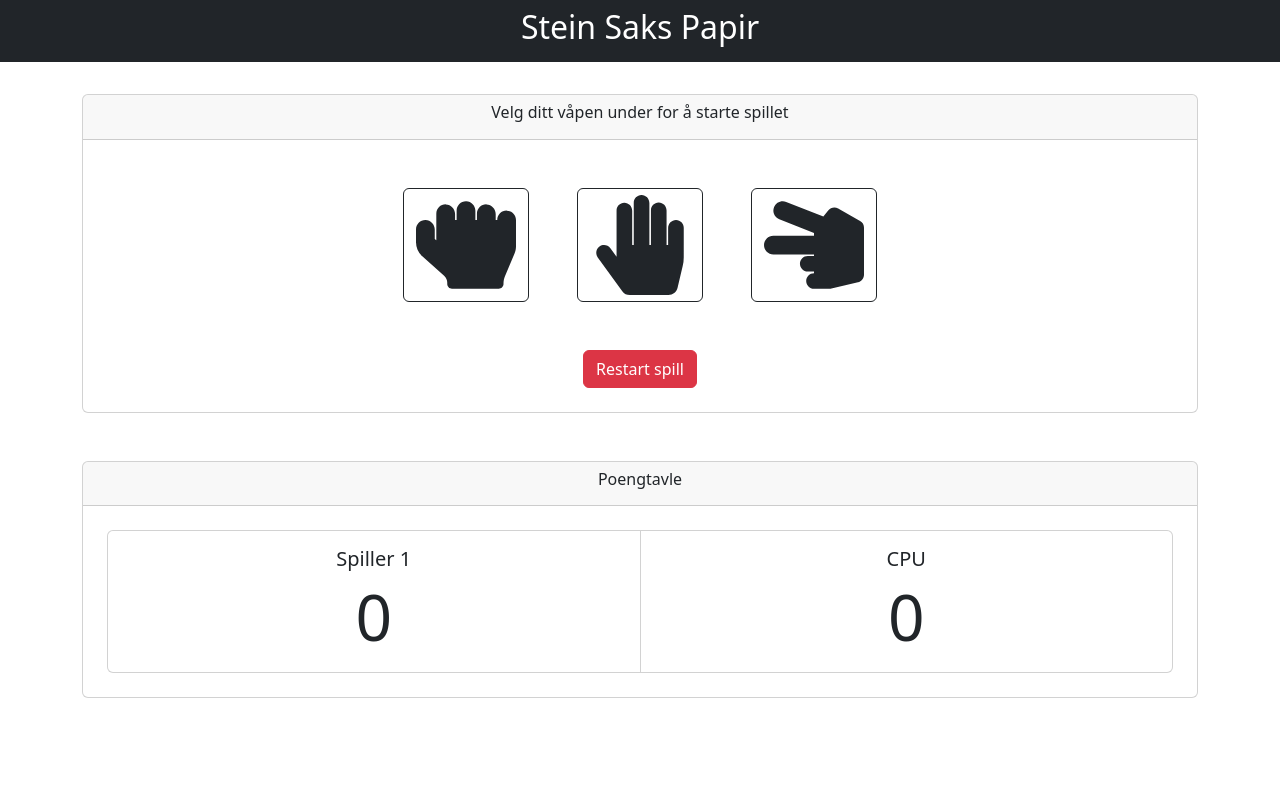
Test case: Besøk hjemmesiden, se at elementer eksisterer i DOM og at knappene fungerer › Vi klikker på alle våpnene, klikker lukk og sjekker at modal ikke er synlig lenger
Step 1. Click the button with test id "Saks" → (814, 245), box [751,188,877,302]
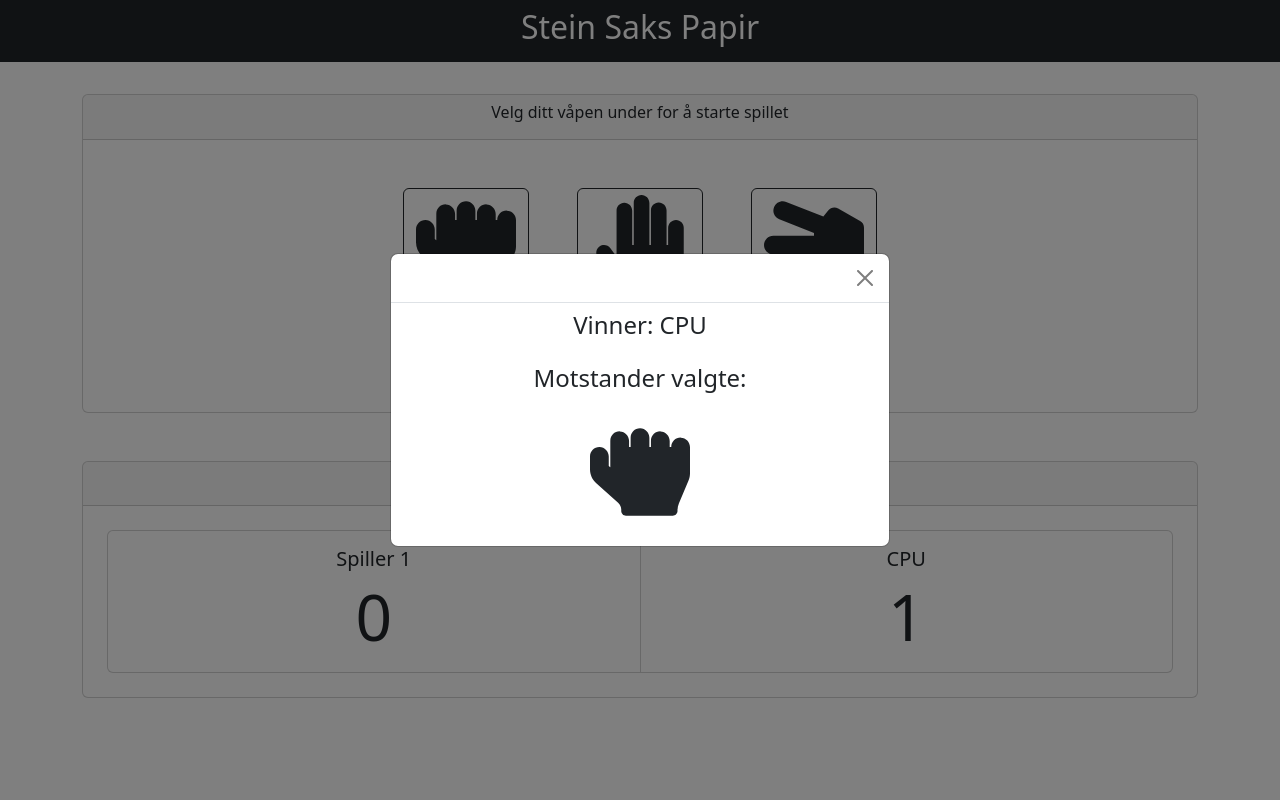
Step 2. Click the button with class "btn-close" → (865, 278), box [849,262,881,294]
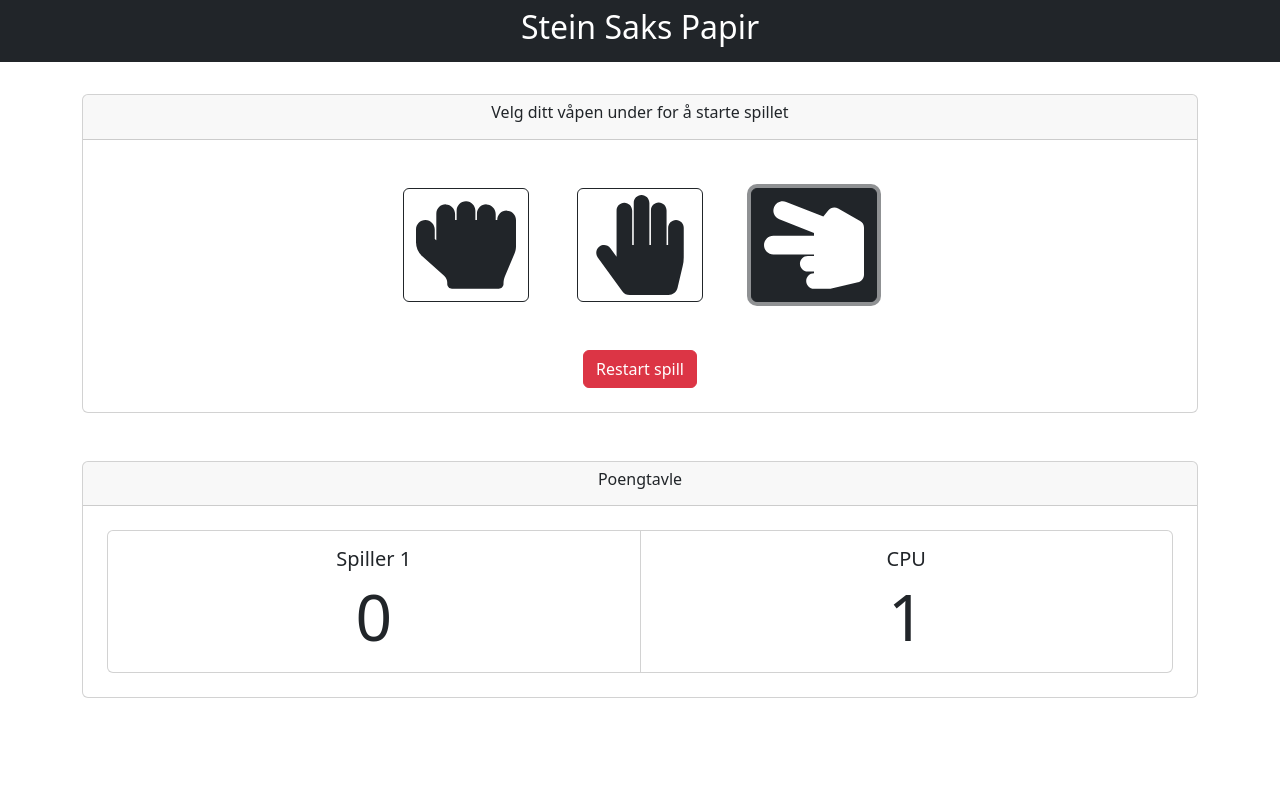
Now the heading with test id "winnermodaltext" is gone
Step 3. Click the button with test id "Stein" → (466, 245), box [403,188,529,302]
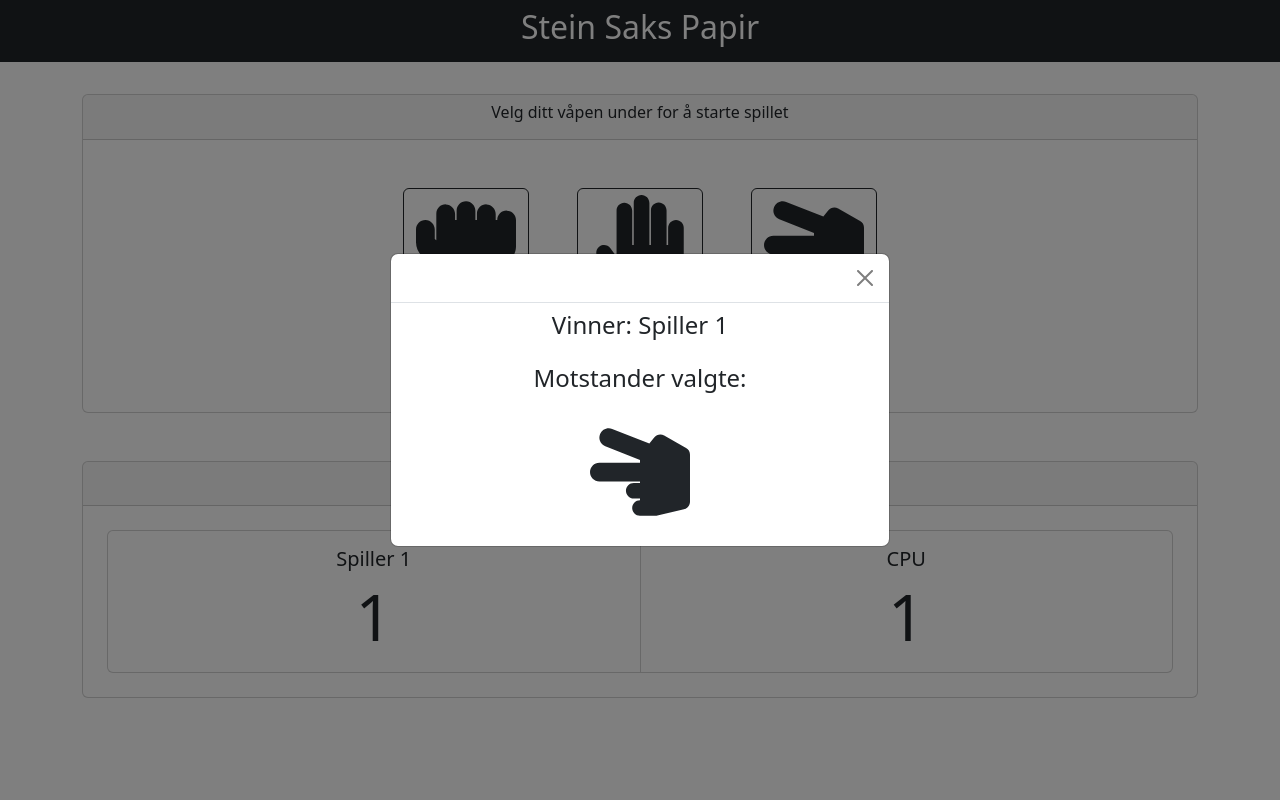
Step 4. Click the button with class "btn-close" → (865, 278), box [849,262,881,294]
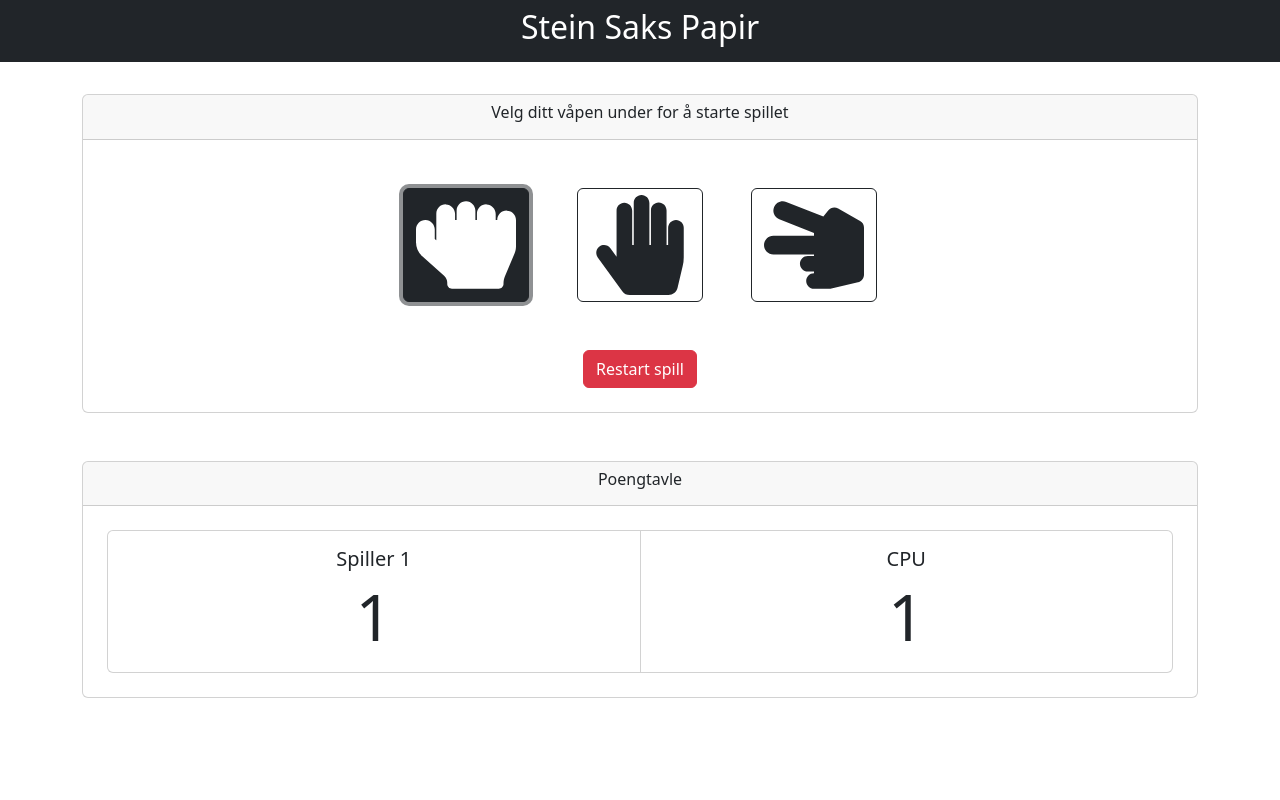
Now the heading with test id "winnermodaltext" is gone
Step 5. Click the button with test id "Papir" → (640, 245), box [577,188,703,302]
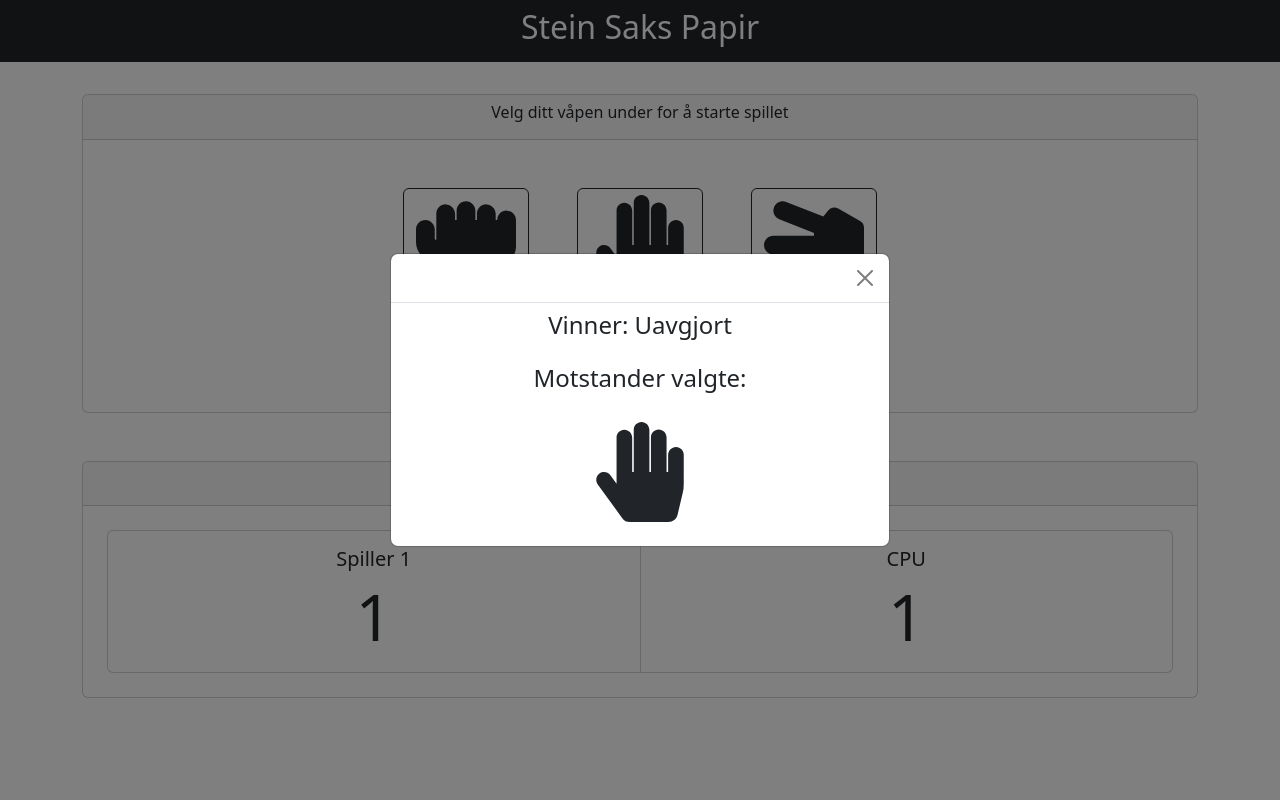
Step 6. Click the button with class "btn-close" → (865, 278), box [849,262,881,294]
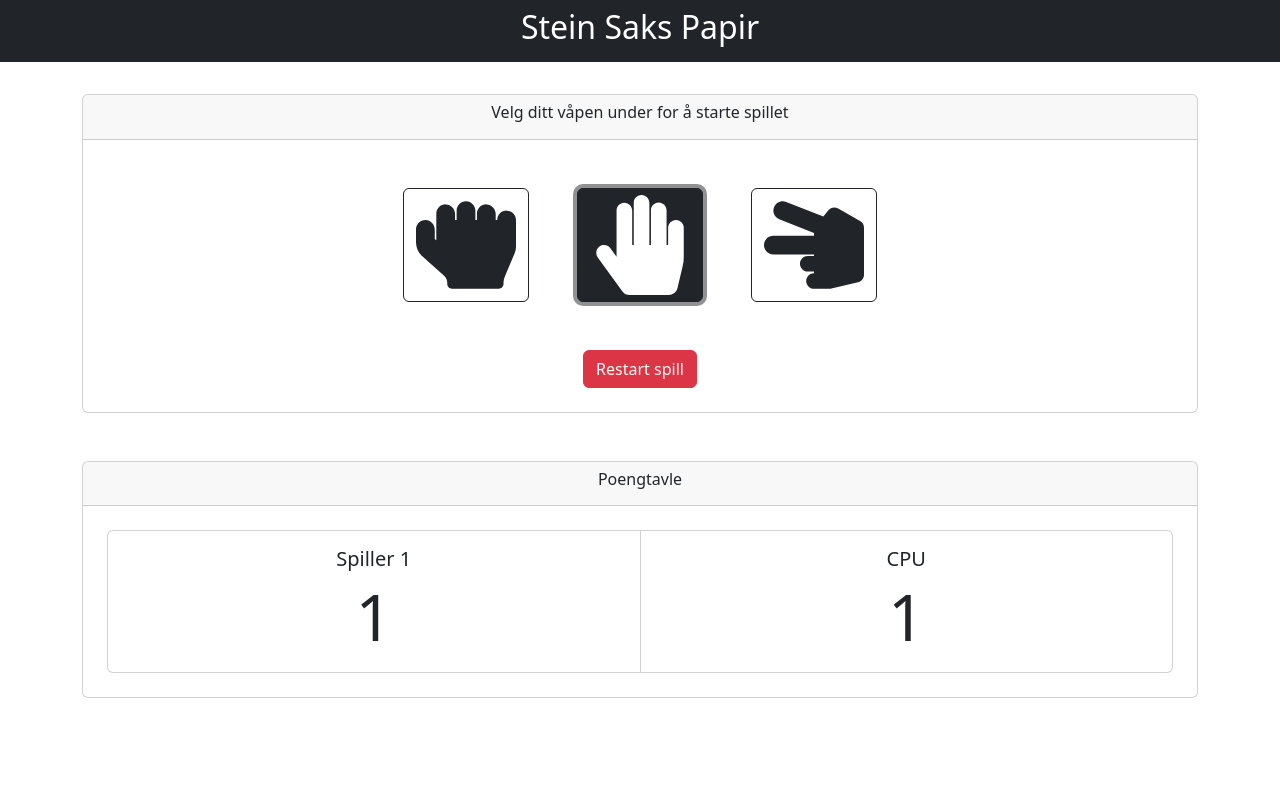
Now the heading with test id "winnermodaltext" is gone
